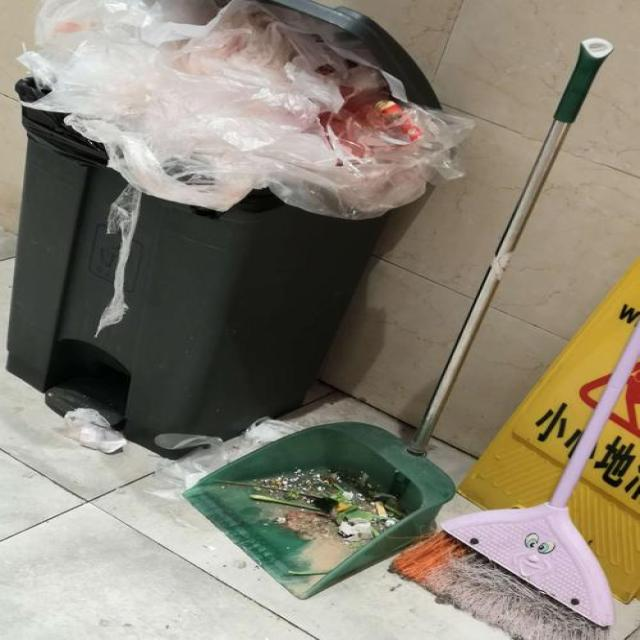overflow: (0, 0, 453, 459)
